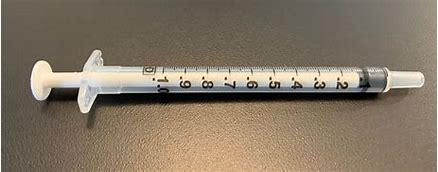Syringe: (23, 47, 430, 123)
